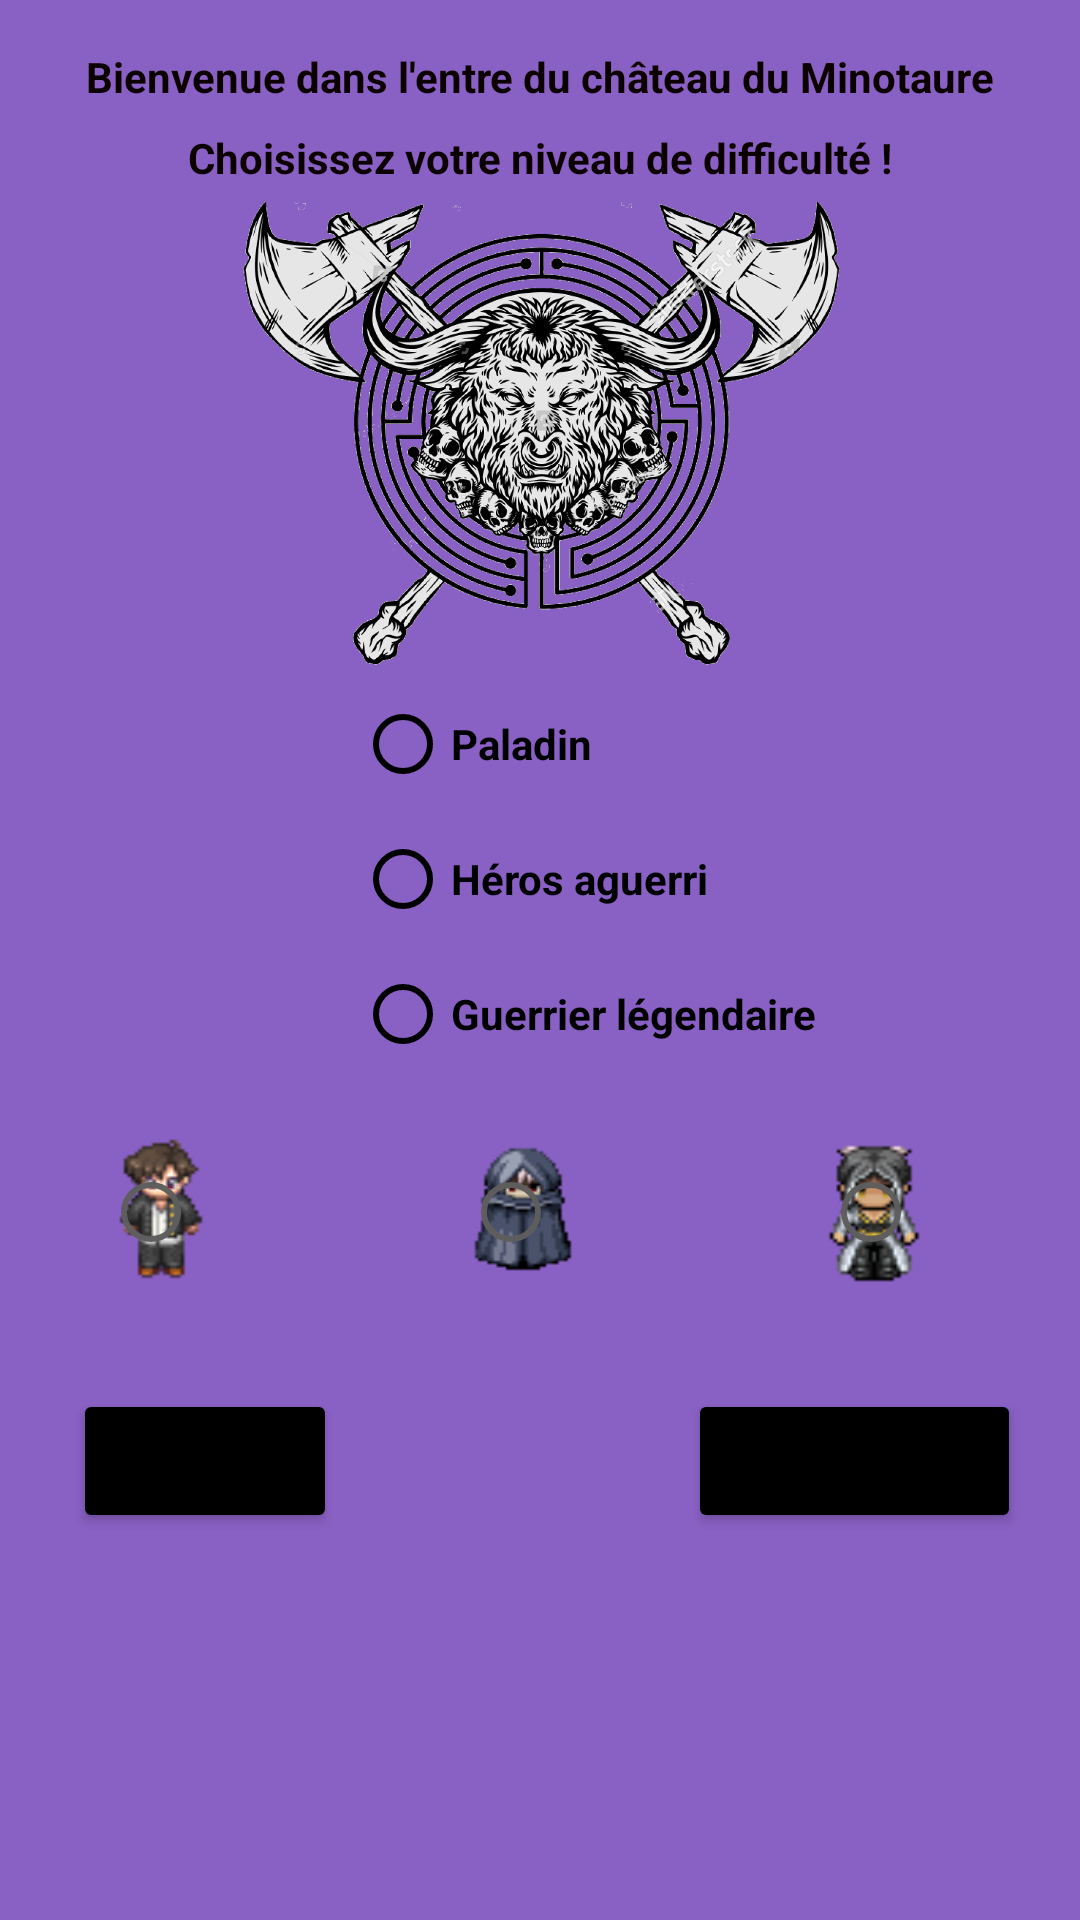

Icons on this 1080px x 1920px Android screen, each with the point to tap as [x,y]:
femme: [874,1213]
ninja: [523,1209]
